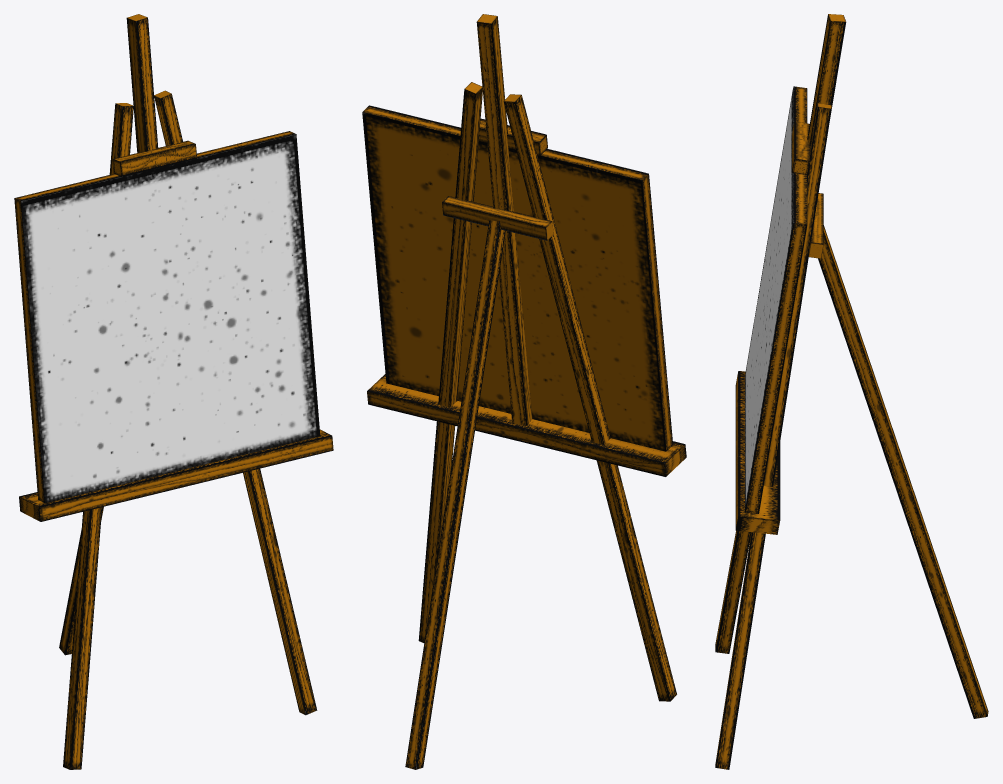
Rendered from atril_w_canvas.obj.
3 views of the same model, side by side, from view 1: azimuth 30°, elevation 25°; view 2: azimuth 150°, elevation 25°; view 3: azimuth 270°, elevation 25° (orthographic).
Parts seen in each view (by area): view 1: atril; view 2: atril; view 3: atril.
Part boxes in pixels (<box>): atril: <box>14,14,333,769</box>; atril: <box>362,14,686,769</box>; atril: <box>715,14,988,769</box>.
Bounding box in the file's own units: 2.13 × 4.77 × 1.69.
